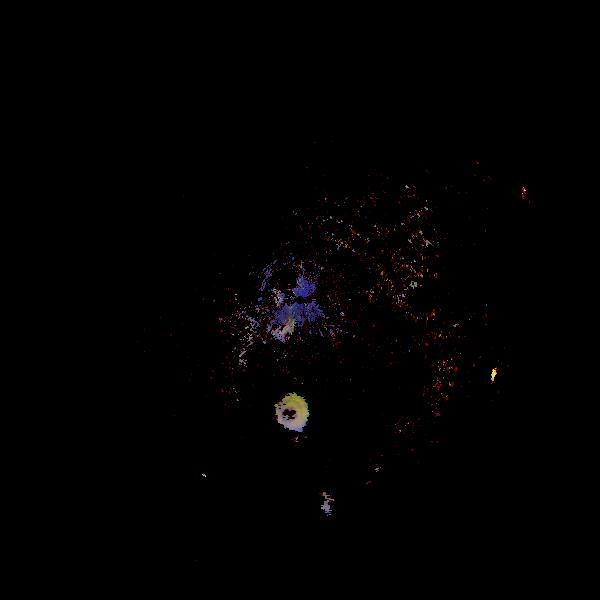roost: (307, 490, 337, 520), (278, 401, 305, 428)
